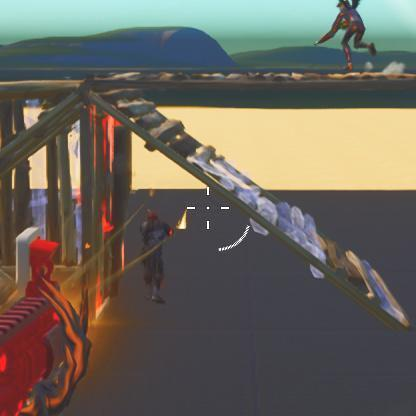person: (330, 5, 374, 66), (142, 216, 164, 296)
